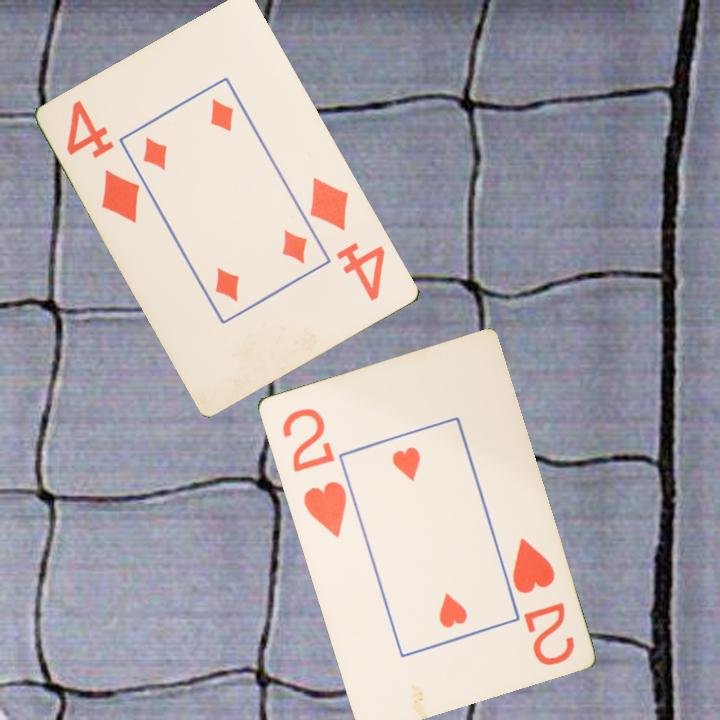2h: (278, 404, 350, 540), (508, 534, 578, 668)
4d: (306, 173, 389, 304), (63, 96, 144, 226)
